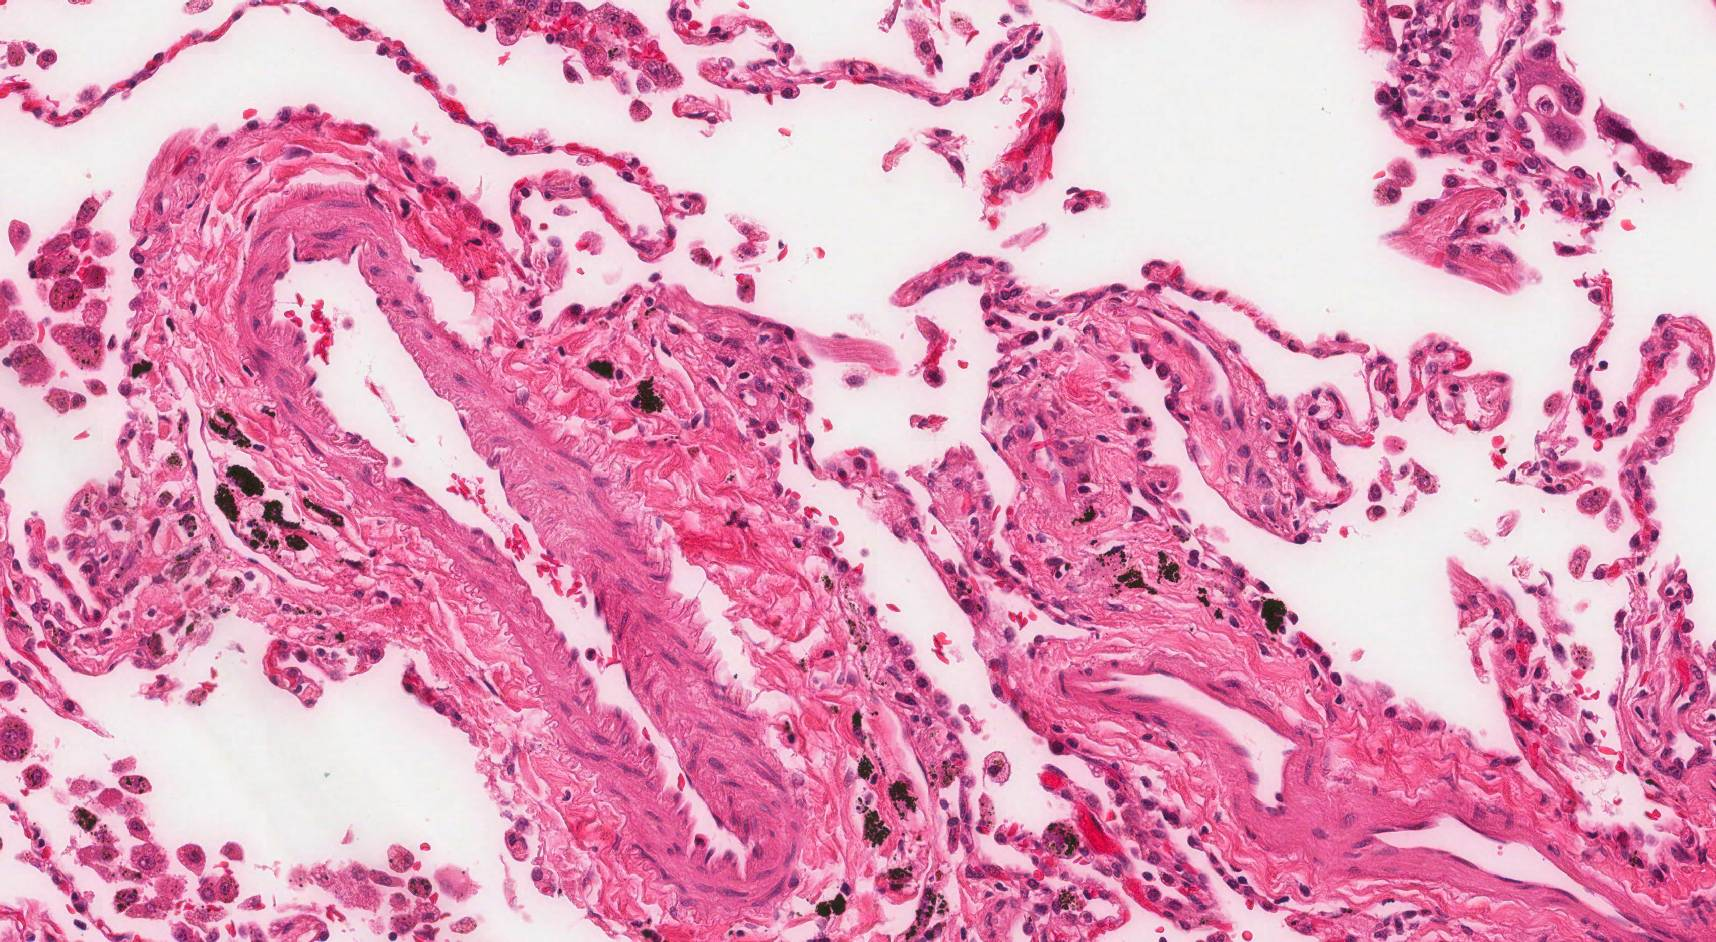stas: (1511, 27, 1697, 185)
